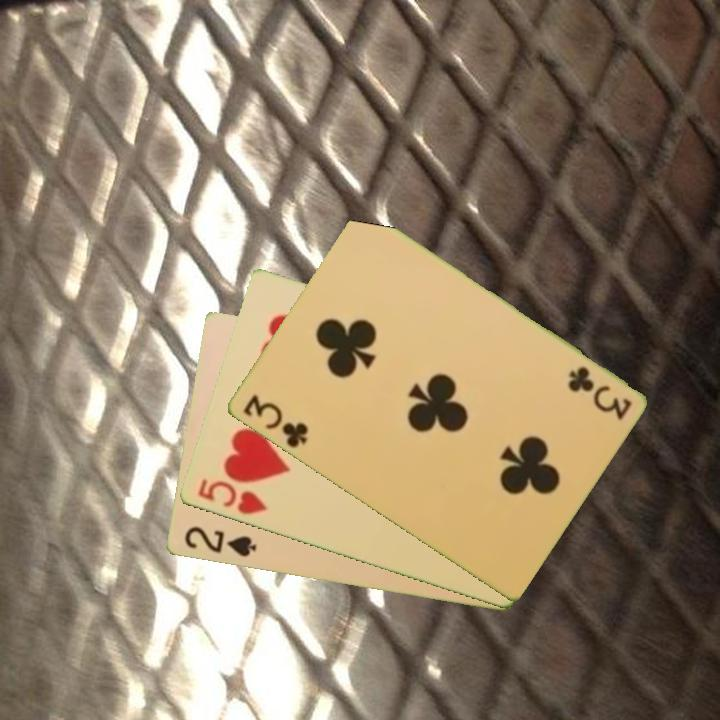2s: (180, 523, 259, 560)
3c: (239, 390, 311, 451), (564, 362, 634, 422)
5h: (194, 475, 270, 518)
